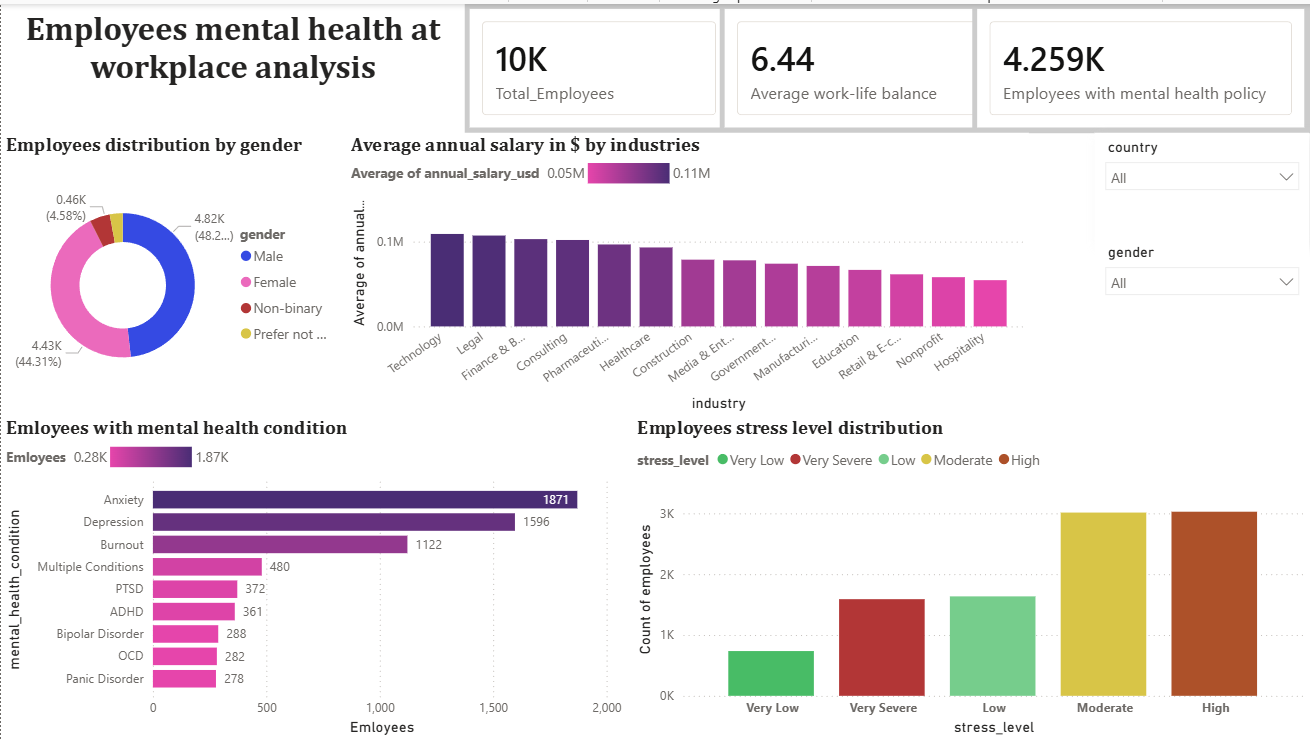

The page's visual inventory and layout, read from the dashboard file:
{"tool":"powerbi","page":{"name":"Page 1","canvas":[1280,720],"ordinal":0},"visuals":[{"type":"textbox","box":[0,0,453.7,126],"z":0},{"type":"cardVisual","fields":{"Data":["Count(mental_health_cleaned.record_id)"]},"box":[454.2,0,263.5,126.2],"z":1000},{"type":"barChart","title":"Emloyees with mental health condition","fields":{"Y":["CountNonNull(mental_health_cleaned.record_id)"],"Category":["mental_health_cleaned.mental_health_condition"]},"box":[0,403.4,617.5,317],"z":2000},{"type":"columnChart","title":"Employees stress level distribution","fields":{"Y":["CountNonNull(mental_health_cleaned.record_id)"],"Category":["mental_health_cleaned.stress_level"],"Series":["mental_health_cleaned.stress_level"]},"box":[617.5,403.4,662.8,317],"z":3000},{"type":"cardVisual","fields":{"Data":["Avg(mental_health_cleaned.work_life_balance_score)"]},"box":[702.6,0,273.1,126.2],"z":4000},{"type":"cardVisual","fields":{"Data":["CountNonNull(mental_health_cleaned.mental_health_policy_exists)"]},"box":[949.6,0,330.7,126.2],"z":5000},{"type":"donutChart","title":"Employees distribution by gender","fields":{"Category":["mental_health_cleaned.gender"],"Y":["CountNonNull(mental_health_cleaned.record_id)"]},"box":[0,126.2,337.6,277.2],"z":6000},{"type":"slicer","fields":{"Values":["mental_health_cleaned.country"]},"box":[1070.3,126.2,209.9,102.9],"z":7000},{"type":"slicer","fields":{"Values":["mental_health_cleaned.gender"]},"box":[1070.3,229.2,209.9,100.2],"z":8000},{"type":"columnChart","title":"Average annual salary in $ by industries","fields":{"Y":["Avg(mental_health_cleaned.annual_salary_usd)"],"Category":["mental_health_cleaned.industry"]},"box":[337.6,126.2,668.3,277.2],"z":9000}]}

Visuals, with their boxes in screenshot pixels (x1, y1, x2, y2), scaled from the page's 1280x720 canvas onto the 1310x740 screenshot:
textbox: bbox(0, 0, 464, 130)
cardVisual - Count(mental_health_cleaned.record_id): bbox(465, 0, 735, 130)
"Emloyees with mental health condition" barChart: bbox(0, 415, 632, 739)
"Employees stress level distribution" columnChart: bbox(632, 415, 1309, 739)
cardVisual - Avg(mental_health_cleaned.work_life_balance_score): bbox(719, 0, 999, 130)
cardVisual - CountNonNull(mental_health_cleaned.mental_health_policy_exists): bbox(972, 0, 1309, 130)
"Employees distribution by gender" donutChart: bbox(0, 130, 346, 415)
slicer - mental_health_cleaned.country: bbox(1095, 130, 1309, 235)
slicer - mental_health_cleaned.gender: bbox(1095, 236, 1309, 339)
"Average annual salary in $ by industries" columnChart: bbox(346, 130, 1029, 415)
